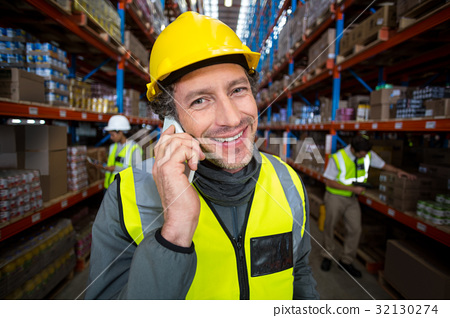phone: (155, 110, 206, 180)
talk: (148, 70, 265, 205)
